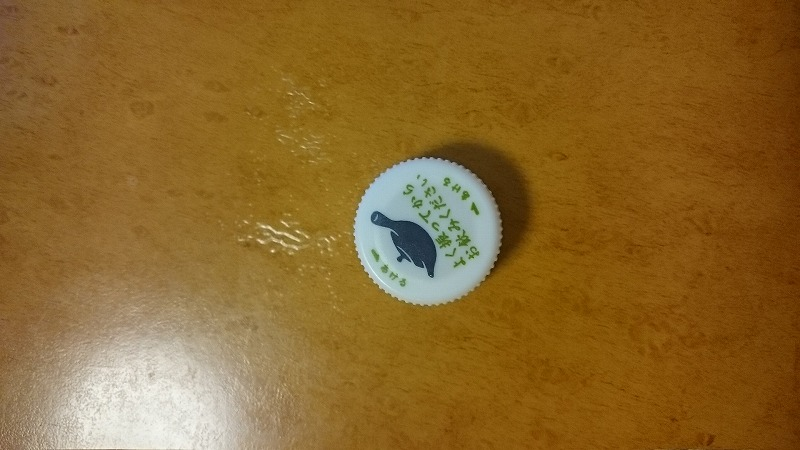A: (348, 146, 510, 310)
